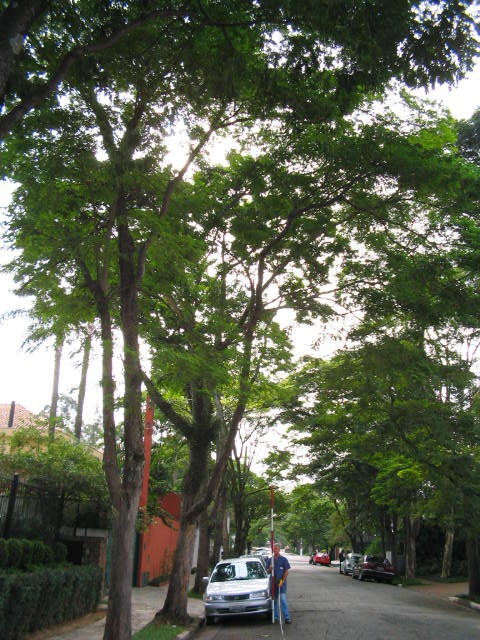crown: (19, 142, 476, 384), (53, 6, 474, 157)
stem: (85, 497, 147, 638), (148, 501, 213, 622)
stick: (262, 485, 283, 623)
tree: (49, 5, 471, 633), (17, 140, 476, 638)
